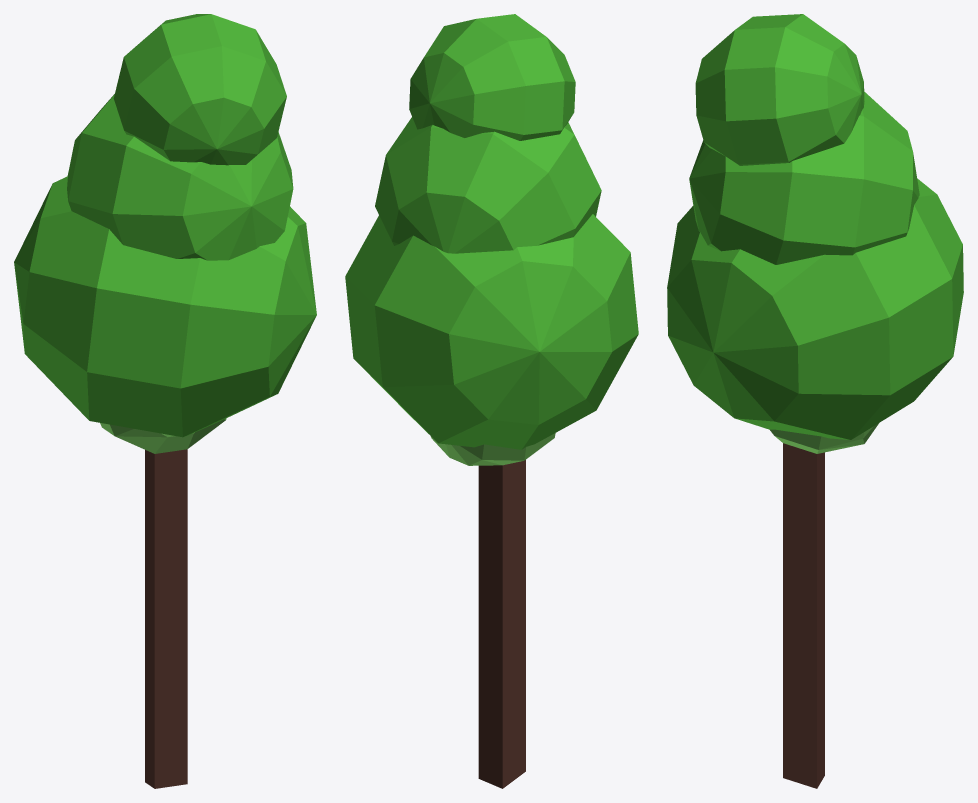
The model's file is tree.fbx.
3 renders of one model, left to right at view 1: azimuth 30°, elevation 25°; view 2: azimuth 150°, elevation 25°; view 3: azimuth 270°, elevation 25°, orthographic. The views are drawn at different scales.
Parts seen in each view (by area): view 1: Tree_3_2; view 2: Tree_3_2; view 3: Tree_3_2.
Part boxes in pixels (x1,y1,x2,y2): Tree_3_2: (14,14,316,788); Tree_3_2: (345,14,638,788); Tree_3_2: (667,14,963,788).
Size of the model in its own units: 76.47 by 211 by 73.72.
